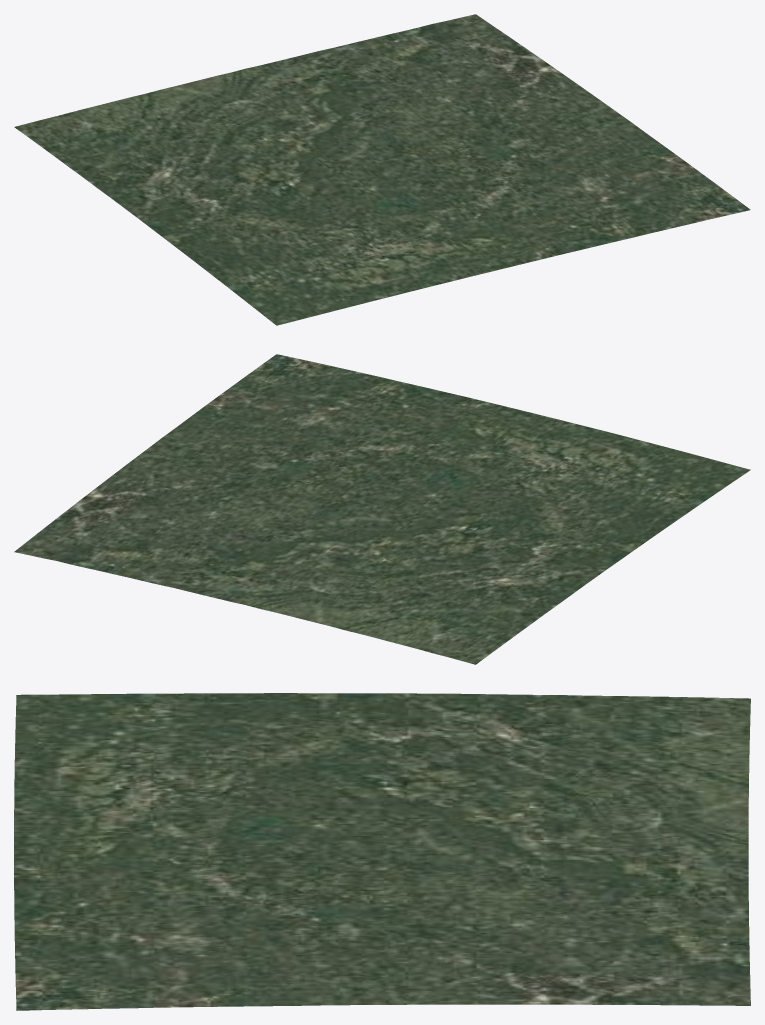
3 views of the same model, one above another, from view 1: azimuth 30°, elevation 25°; view 2: azimuth 150°, elevation 25°; view 3: azimuth 270°, elevation 25° (orthographic). The views are drawn at different scales.
Size of the model in its own units: 265876 by 2951 by 262041.
1 material, 1 textured.
